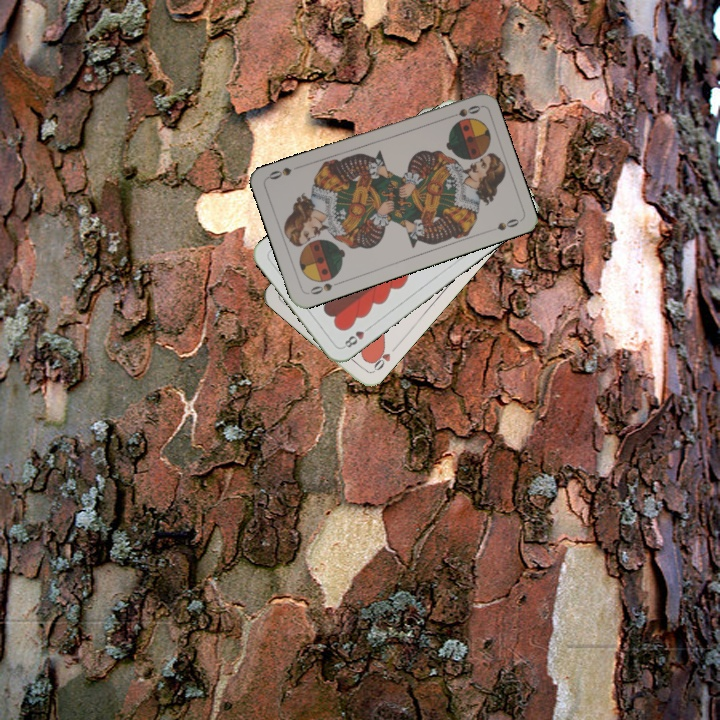H8: (339, 322, 374, 351)
HO: (366, 342, 399, 375)
SO: (443, 101, 483, 121), (304, 278, 343, 297)
